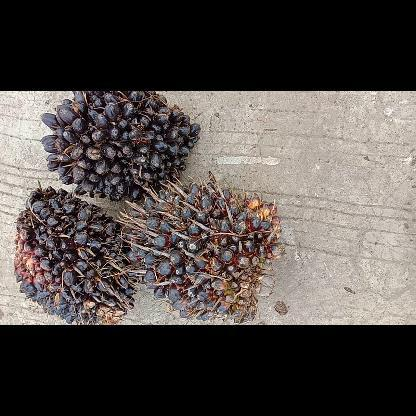TBS mentah: (124, 176, 286, 324), (37, 91, 203, 204), (9, 184, 141, 324)
